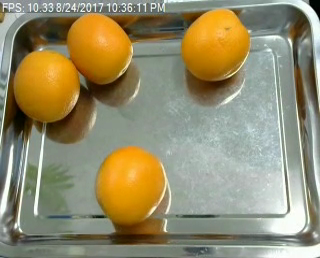Orange: (95, 146, 166, 224), (181, 8, 249, 81), (13, 49, 80, 121), (67, 12, 133, 84)
